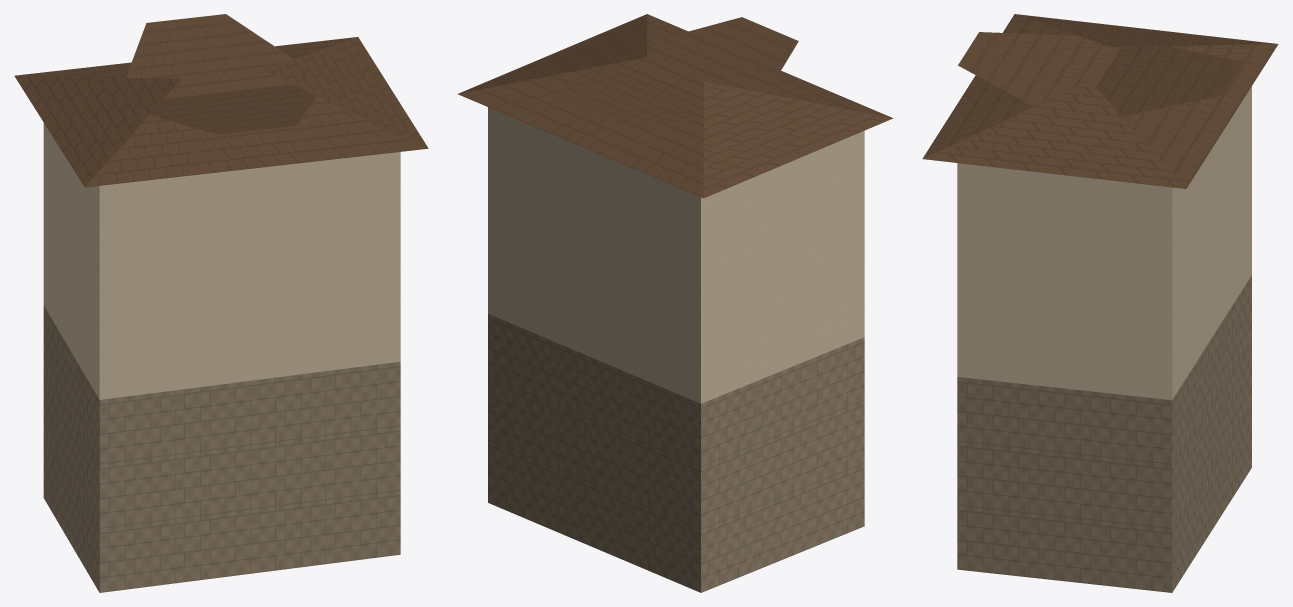
File: bld_c13_35_404.gltf
3 views of the same model, side by side, from view 1: azimuth 30°, elevation 25°; view 2: azimuth 150°, elevation 25°; view 3: azimuth 270°, elevation 25° (orthographic). The views are drawn at different scales.
Visible parts, largest first — view 1: bld_c13_35_404; view 2: bld_c13_35_404; view 3: bld_c13_35_404.
Boxes of the visible parts, <box> form: bld_c13_35_404: <box>14,14,428,592</box>; bld_c13_35_404: <box>457,14,893,592</box>; bld_c13_35_404: <box>922,14,1278,592</box>.
Size of the model in its own units: 9.94 by 12 by 8.55.
3 materials, 3 textured.
